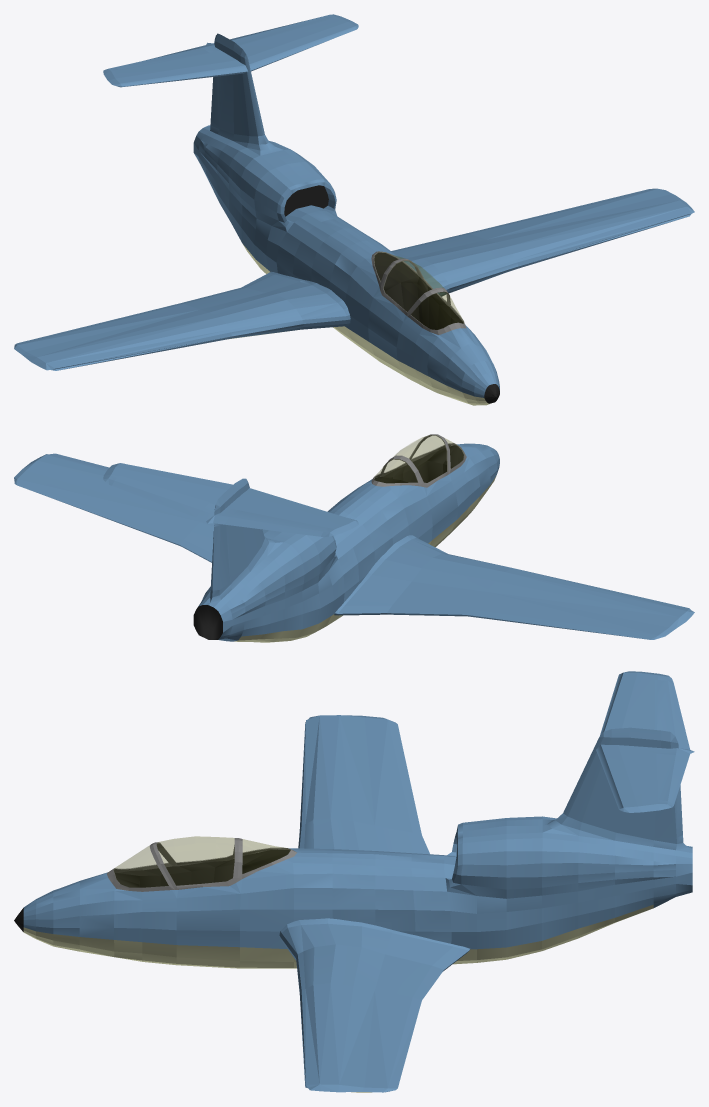
The model's file is aircraft_2_damage.glb.
3 renders of one model, top to bottom at view 1: azimuth 30°, elevation 25°; view 2: azimuth 150°, elevation 25°; view 3: azimuth 270°, elevation 25°, orthographic. The views are drawn at different scales.
Visible parts, largest first — view 1: main fuselage, inner wing, TailBreakaway, VerticalTip, OuterWingRight, OuterWingLeft, canopy, left outer wing, right outer wing, HorizontalTipRight, HorizontalTipLeft, canopy frame (+3 smaller); view 2: main fuselage, inner wing, TailBreakaway, OuterWingRight, VerticalTip, OuterWingLeft, elevator, right outer wing, canopy, left aileron, right aileron, left outer wing (+4 smaller); view 3: main fuselage, TailBreakaway, inner wing, VerticalTip, OuterWingLeft, OuterWingRight, canopy, right outer wing, left outer wing, elevator, canopy frame, HorizontalTipLeft (+4 smaller).
Part boxes in pixels (left/top/right/bottom): main fuselage: left=244, top=153, right=499, bottom=405; inner wing: left=181, top=233, right=518, bottom=338; TailBreakaway: left=193, top=113, right=302, bottom=255; VerticalTip: left=174, top=33, right=292, bottom=142; OuterWingRight: left=14, top=319, right=170, bottom=370; OuterWingLeft: left=537, top=188, right=694, bottom=243; canopy: left=374, top=252, right=463, bottom=329; left outer wing: left=467, top=213, right=690, bottom=268; right outer wing: left=54, top=303, right=231, bottom=370; HorizontalTipRight: left=103, top=60, right=197, bottom=87; HorizontalTipLeft: left=275, top=14, right=358, bottom=55; canopy frame: left=371, top=251, right=466, bottom=334; main fuselage: left=262, top=443, right=499, bottom=639; inner wing: left=180, top=520, right=511, bottom=616; TailBreakaway: left=193, top=533, right=309, bottom=642; OuterWingRight: left=537, top=582, right=694, bottom=639; VerticalTip: left=173, top=477, right=291, bottom=569; OuterWingLeft: left=14, top=453, right=146, bottom=513; elevator: left=112, top=476, right=328, bottom=536; right outer wing: left=466, top=568, right=684, bottom=619; canopy: left=374, top=435, right=463, bottom=482; left aileron: left=39, top=483, right=168, bottom=538; right aileron: left=490, top=606, right=634, bottom=636; left outer wing: left=56, top=453, right=201, bottom=546; main fuselage: left=14, top=817, right=530, bottom=968; TailBreakaway: left=531, top=813, right=692, bottom=953; inner wing: left=279, top=818, right=469, bottom=1000; VerticalTip: left=557, top=711, right=694, bottom=822; OuterWingLeft: left=306, top=1016, right=400, bottom=1092; OuterWingRight: left=306, top=715, right=400, bottom=793; canopy: left=114, top=836, right=289, bottom=886; right outer wing: left=299, top=720, right=421, bottom=835; left outer wing: left=300, top=983, right=421, bottom=1087; elevator: left=655, top=679, right=688, bottom=804; canopy frame: left=107, top=838, right=296, bottom=891; HorizontalTipLeft: left=605, top=769, right=673, bottom=812.
Size of the model in its own units: 14.5 by 4.25 by 11.07.
